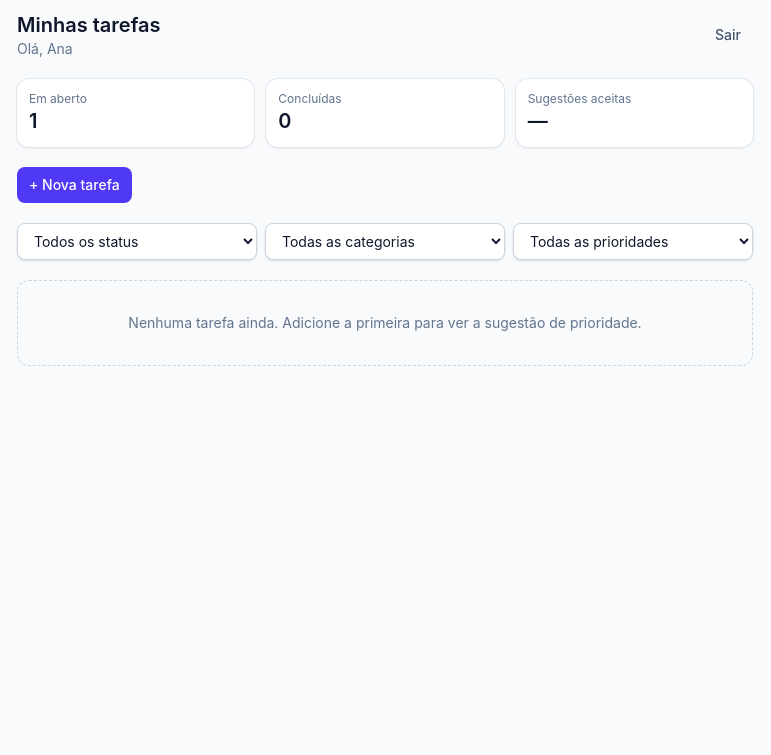
App › cria uma tarefa e mostra a sugestão do modelo
Expected: the text "Nenhuma tarefa ainda" is shown, x1=128 y1=314 x2=642 y2=331
Click the button "+ Nova tarefa" at (74, 185), box x1=17 y1=167 x2=132 y2=203
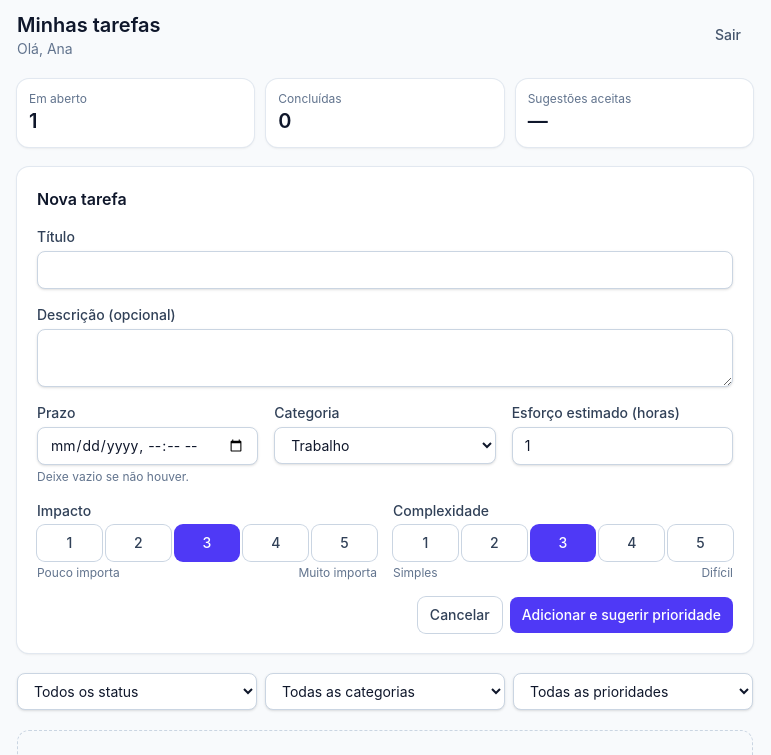
Type "Estudar para a prova" into the field labelled "Título" at (385, 270), box x1=37 y1=251 x2=733 y2=289
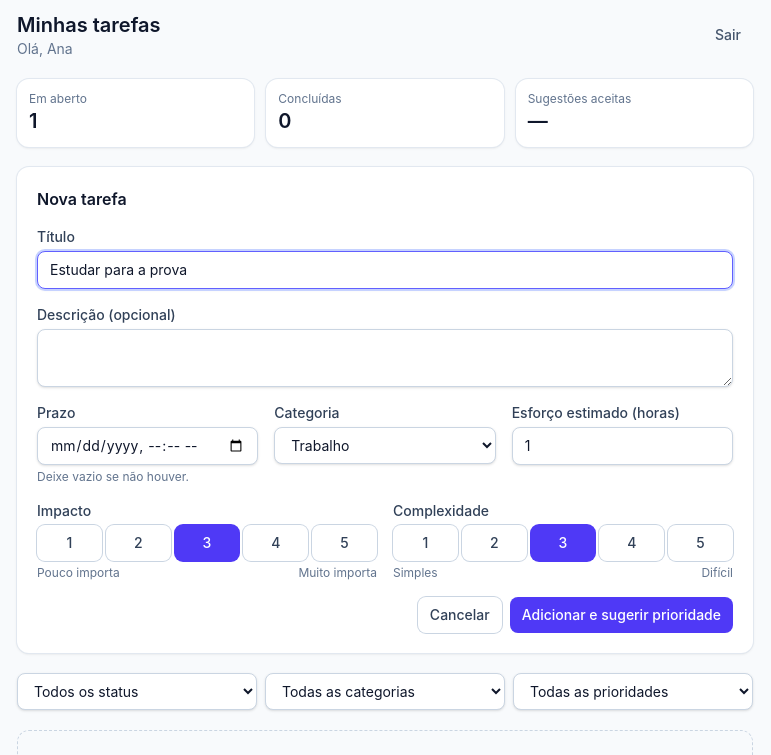
Select "Estudo" in the dropdown labelled "Categoria" at (385, 446), box x1=274 y1=427 x2=496 y2=464
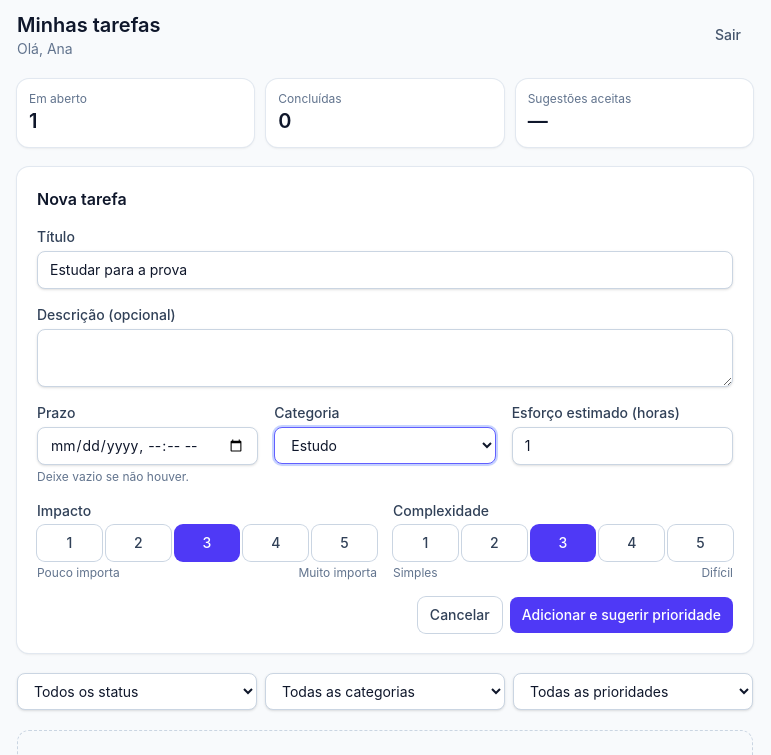
Click the radio button labelled "5" below "Impacto" at (345, 543), box x1=312 y1=525 x2=377 y2=561
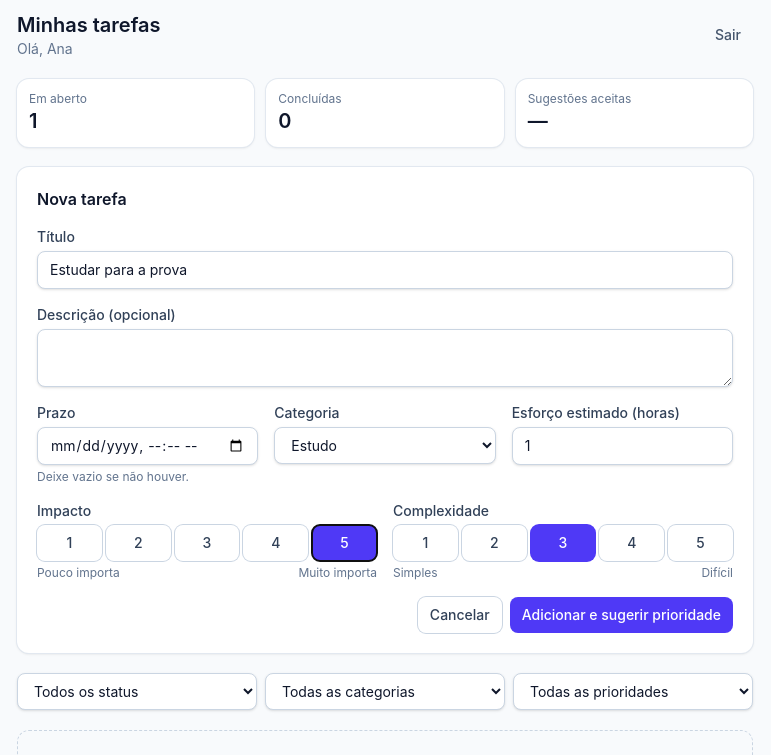
Click the button "Adicionar e sugerir prioridade" at (621, 615), box x1=510 y1=597 x2=733 y2=633
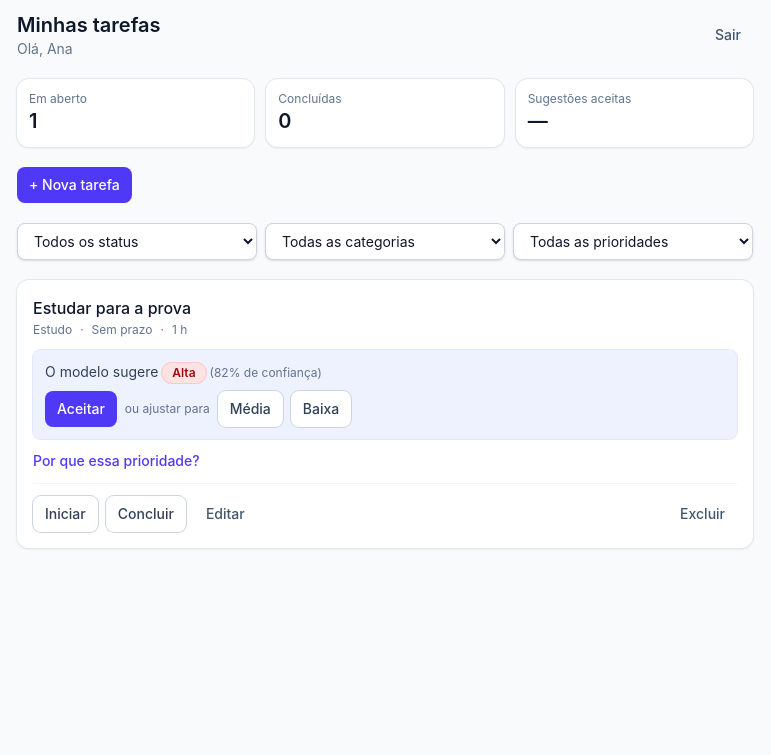
Now the heading "Estudar para a prova" is shown, box x1=33 y1=296 x2=191 y2=320
Now the text "O modelo sugere Alta (82% de confiança)" is shown, box x1=45 y1=363 x2=322 y2=383
